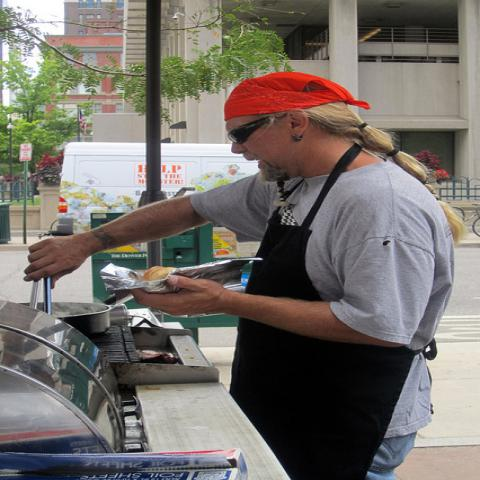truck: (38, 141, 260, 240)
